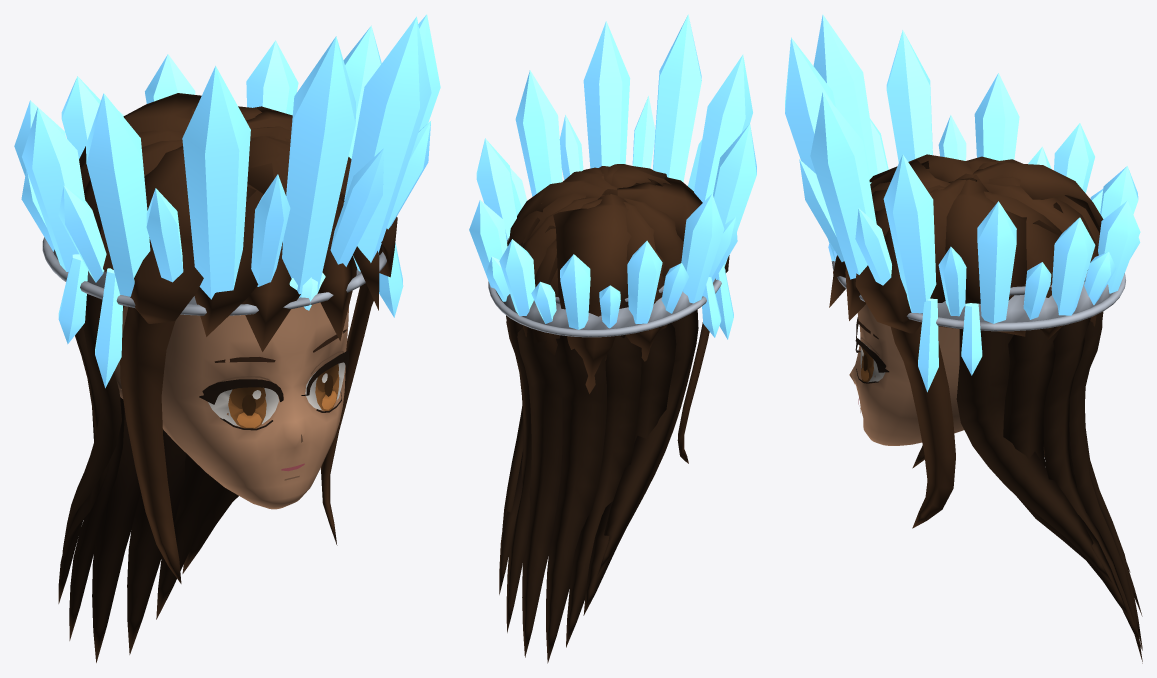
Rendered from h_frost_f.glb.
3 renders of one model, left to right at view 1: azimuth 30°, elevation 25°; view 2: azimuth 150°, elevation 25°; view 3: azimuth 270°, elevation 25°, orthographic. The views are drawn at different scales.
Parts seen in each view (by area): view 1: FrostCrown, HeadMesh, HairTop, HairLong, HairFrame, LashR, EyeWhiteR; view 2: FrostCrown, HairLong, HairTop, HairFrame; view 3: FrostCrown, HairLong, HairTop, HeadMesh, HairFrame.
Boxes of the visible parts, x1,y1,x2,y2 form: FrostCrown: (14, 14, 440, 388); HeadMesh: (122, 302, 348, 509); HairTop: (79, 93, 397, 351); HairLong: (58, 294, 238, 662); HairFrame: (120, 283, 373, 583); LashR: (199, 379, 283, 430); EyeWhiteR: (208, 388, 278, 426); FrostCrown: (469, 14, 756, 339); HairLong: (499, 309, 698, 663); HairTop: (507, 164, 729, 393); HairFrame: (677, 322, 709, 463); FrostCrown: (785, 14, 1140, 392); HairLong: (956, 312, 1142, 663); HairTop: (829, 154, 1103, 339); HeadMesh: (849, 304, 963, 445); HairFrame: (891, 324, 955, 528).
Size of the model in its own units: 0.3223 by 0.676 by 0.3535.
